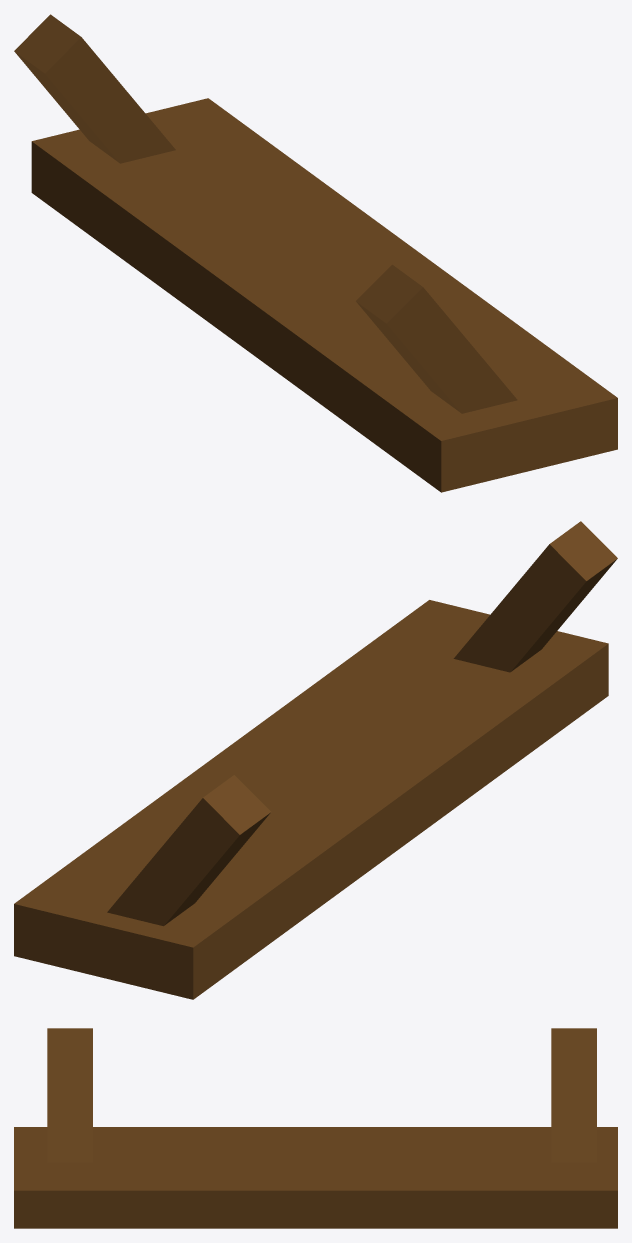
Rendered from small shelf.fbx.
3 renders of one model, top to bottom at view 1: azimuth 30°, elevation 25°; view 2: azimuth 150°, elevation 25°; view 3: azimuth 270°, elevation 25°, orthographic. The views are drawn at different scales.
Parts seen in each view (by area): view 1: Cube.001; view 2: Cube.001; view 3: Cube.001.
Boxes of the visible parts, x1,y1,x2,y2 form: Cube.001: (14,14,617,492); Cube.001: (14,521,617,999); Cube.001: (14,1028,617,1228).
Bounding box in the file's own units: 25.84 × 22.22 × 87.88.
